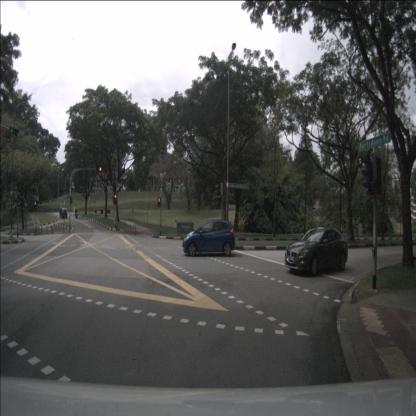vehicle-car: (285, 227, 348, 277), (182, 219, 236, 256), (60, 208, 68, 218)
vehicle-motorcycle: (74, 207, 79, 218)
